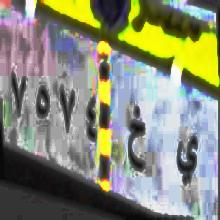4: (83, 92, 98, 144)
5: (34, 78, 50, 132)
7: (57, 79, 76, 136), (10, 62, 27, 125)
khaa: (125, 99, 146, 177)
yaa: (174, 123, 198, 196)
